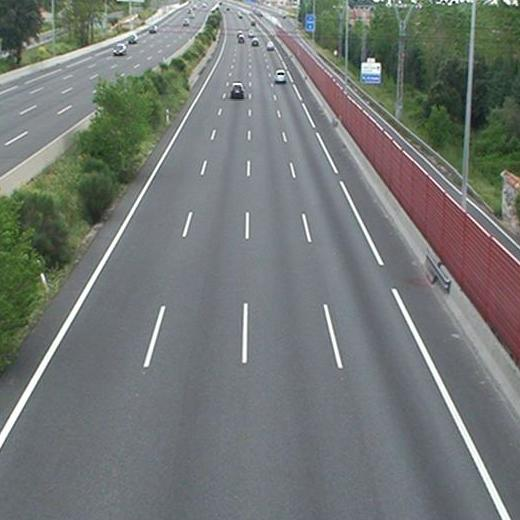car: (231, 82, 243, 97), (274, 71, 284, 82), (266, 42, 273, 50), (251, 39, 258, 45), (237, 37, 243, 43)
